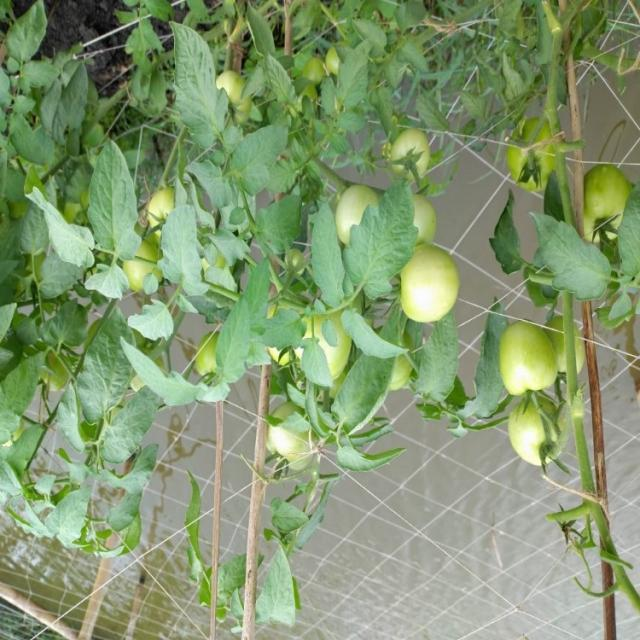tomato: (493, 393, 580, 474), (393, 249, 468, 336), (493, 316, 569, 396), (583, 152, 640, 249), (332, 181, 386, 247), (394, 128, 450, 191), (259, 413, 306, 485), (310, 323, 360, 383), (508, 119, 546, 195), (143, 185, 181, 238), (116, 244, 157, 293), (213, 75, 246, 114)
